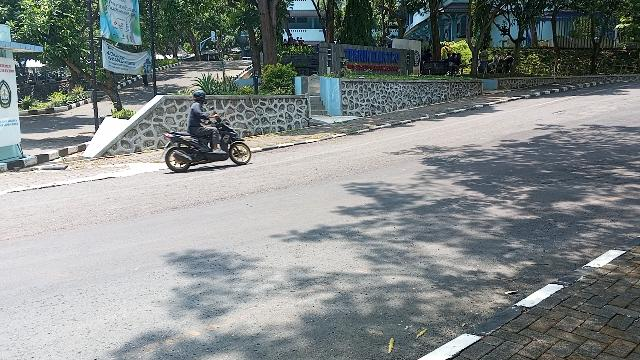helm: (194, 92, 208, 105)
motor: (163, 119, 251, 173)
